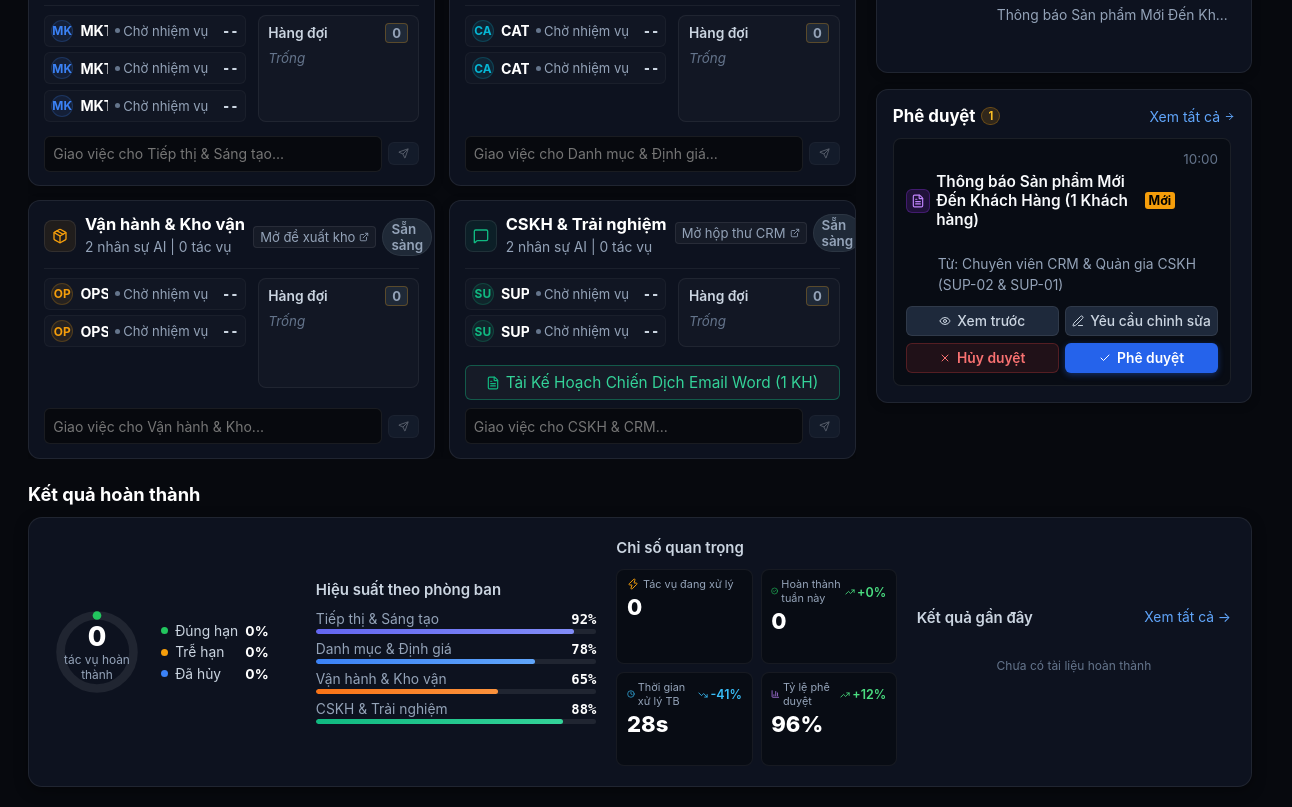
Test: AgenticCommandCenter Support Email Campaign Integration › approves email campaign directly from the Pending Approvals card
(page scrolled)
Expected: the text "Từ: Chuyên viên CRM & Quản gia CSKH (SUP-02 & SUP-01)" is shown, [938, 256, 1196, 293]
Find the approval button on the card
Click the button "Phê duyệt": (1142, 358) [1065, 343, 1218, 373]
(page scrolled)
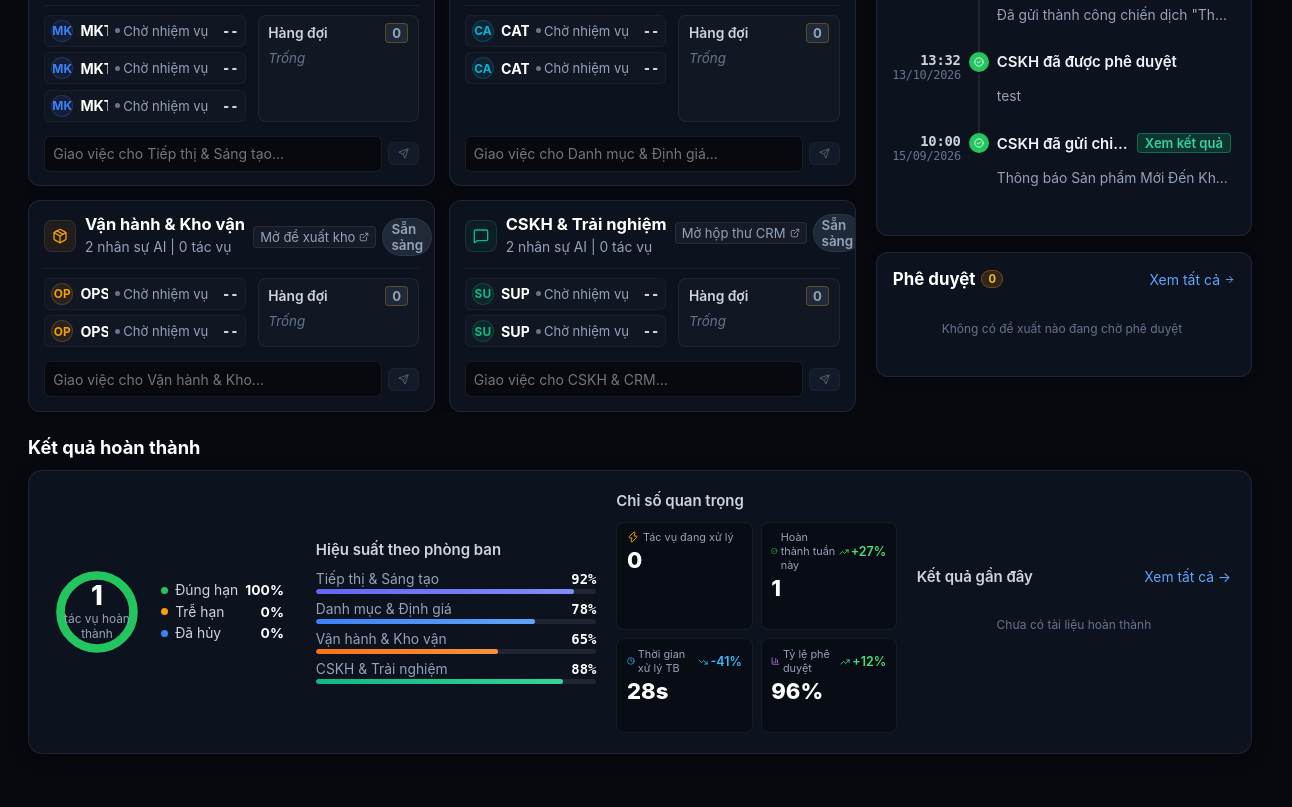
Result: the text "Chuyên viên CRM & Quản gia CSKH (SUP-02 & SUP-01)" is gone
